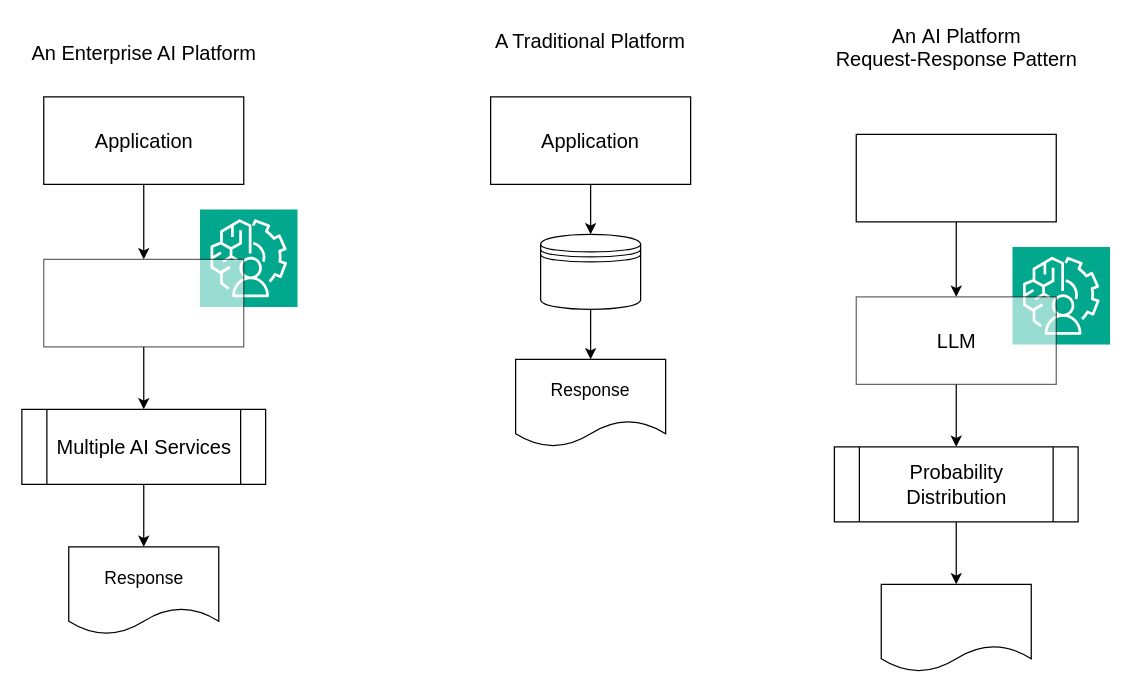
Some shapes in this 1133 by 694 pixel diagram are drawn without their labels. The shapes that lost their labels are listed below. From the top down, each one's centre as x and y in pixels, then its label:
At (x=955, y=177): "Prompt".
At (x=590, y=271): "Database".
At (x=143, y=302): "AI Platform".
At (x=955, y=627): "Output Response".
